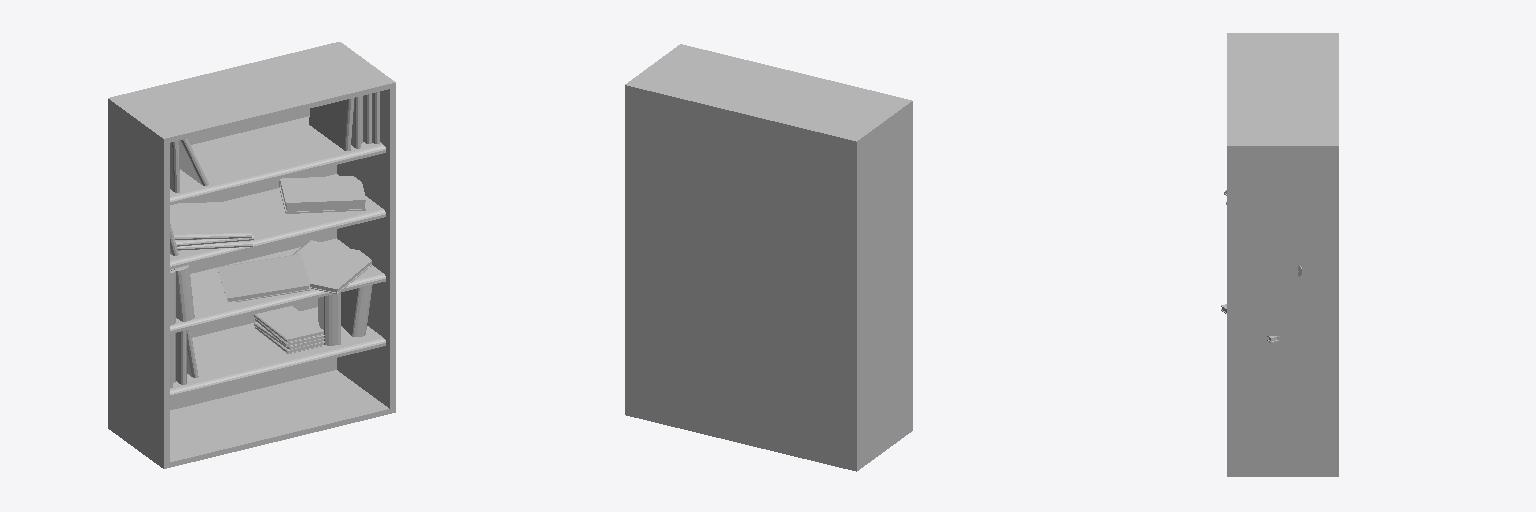
Rendered from bookshelf2.obj.
3 views of the same model, side by side, from view 1: azimuth 30°, elevation 25°; view 2: azimuth 150°, elevation 25°; view 3: azimuth 270°, elevation 25° (orthographic).
Parts seen in each view (by area): view 1: Shelf_Cube.001, Book.017_Plane.018, Book.008_Plane.010, Book.006_Plane.007, Book.016_Plane.009, Book.013_Plane.015, Book.023_Plane.024, Book.019_Plane.020, Book.018_Plane.019, Book.015_Plane.017, Book.003_Plane.004, Book.027_Plane.028; view 2: Shelf_Cube.001; view 3: Shelf_Cube.001.
Boxes of the visible parts, x1,y1,x2,y2 form: Shelf_Cube.001: [108, 42, 395, 468]; Book.017_Plane.018: [217, 254, 310, 301]; Book.008_Plane.010: [279, 176, 365, 213]; Book.006_Plane.007: [170, 201, 251, 239]; Book.016_Plane.009: [293, 240, 371, 293]; Book.013_Plane.015: [309, 98, 354, 150]; Book.023_Plane.024: [254, 306, 323, 342]; Book.019_Plane.020: [341, 285, 372, 336]; Book.018_Plane.019: [318, 292, 340, 345]; Book.015_Plane.017: [174, 265, 194, 321]; Book.003_Plane.004: [179, 139, 208, 185]; Book.027_Plane.028: [176, 330, 186, 384]; Shelf_Cube.001: [625, 44, 912, 471]; Shelf_Cube.001: [1227, 33, 1338, 476].
Bounding box in the file's own units: 1.51 × 2.01 × 0.6541.